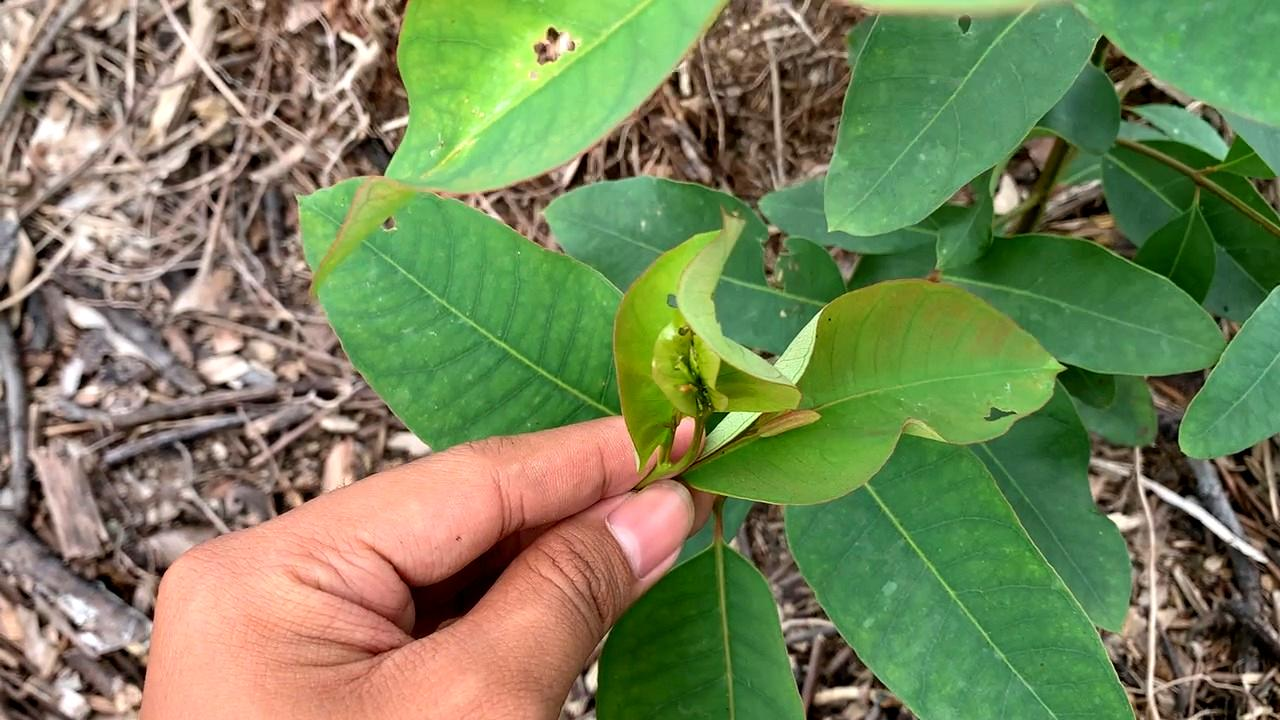Leaf Roller - Leaf: (613, 216, 798, 477)
